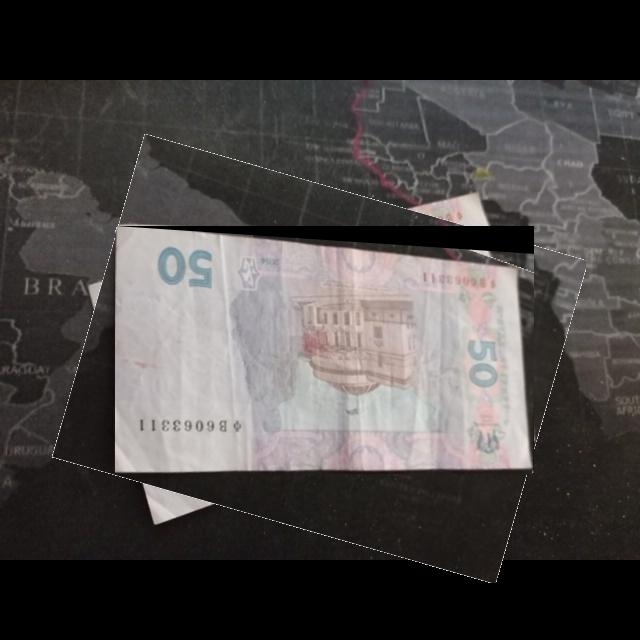50uah: (115, 227, 534, 475)
